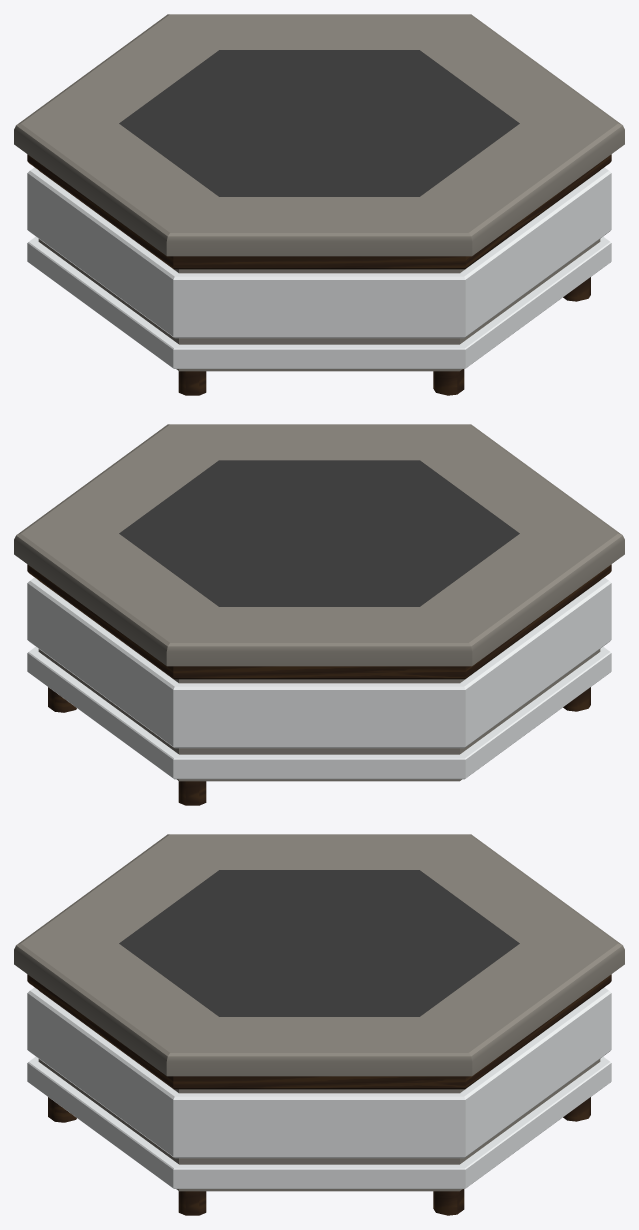
File: HexTable01.fbx
3 views of the same model, one above another, from view 1: azimuth 30°, elevation 25°; view 2: azimuth 150°, elevation 25°; view 3: azimuth 270°, elevation 25° (orthographic).
Visible parts, largest first — view 1: HexTable01; view 2: HexTable01; view 3: HexTable01.
Boxes of the visible parts, box(x1,y1,x2,y2) form: HexTable01: box(14, 14, 624, 395); HexTable01: box(14, 424, 624, 805); HexTable01: box(14, 834, 624, 1215).
Size of the model in its own units: 30.68 by 11.02 by 35.43.
